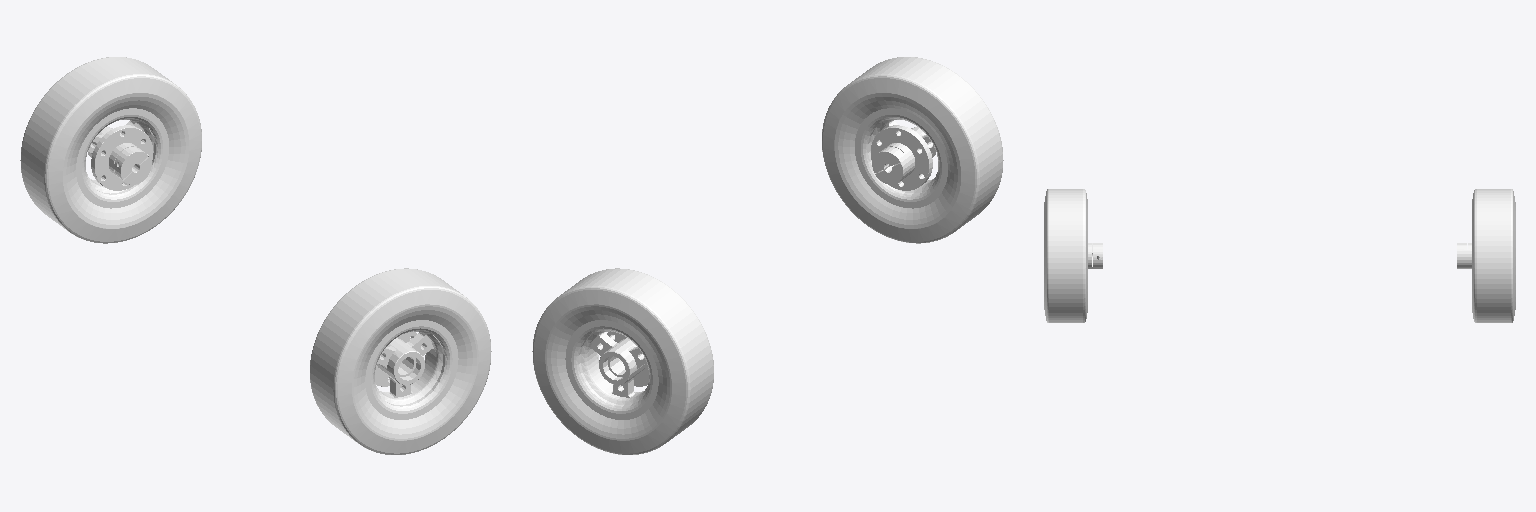
URDF robot description (senior_4wd_dl_robot):
<?xml version="1.0" encoding="utf-8"?>
<!-- This URDF was automatically created by SolidWorks to URDF Exporter! Originally created by [author] ([email redacted]) 
     Commit Version: 1.6.0-4-g7f85cfe  Build Version: 1.6.7995.38578
     For more information, please see http://wiki.ros.org/sw_urdf_exporter -->
<robot
  name="senior_4wd_dl_robot">
  <link
    name="base_link">
    <inertial>
      <origin
        xyz="0.0039692875836891 -0.0169684540029386 0.042340176559083"
        rpy="0 0 0" />
      <mass
        value="3.61810836580839" />
      <inertia
        ixx="0.0123396483090898"
        ixy="-3.75420365719103E-05"
        ixz="1.71277627741974E-06"
        iyy="0.019138606943035"
        iyz="-4.72702121116256E-07"
        izz="0.0300647615679597" />
    </inertial>
    <visual>
      <origin
        xyz="0 0 0"
        rpy="0 0 0" />
      <geometry>
        <mesh
          filename="package://wheeltec_robot_urdf/meshes/senior_4wd_dl_robot_meshes/base_link.STL" />
      </geometry>
      <material
        name="">
        <color
          rgba="0.741176470588235 0.901960784313726 0.956862745098039 1" />
      </material>
    </visual>
    <collision>
      <origin
        xyz="0 0 0"
        rpy="0 0 0" />
      <geometry>
        <mesh
          filename="package://wheeltec_robot_urdf/meshes/senior_4wd_dl_robot_meshes/base_link.STL" />
      </geometry>
    </collision>
  </link>
  <link
    name="lf_wheel_link">
    <inertial>
      <origin
        xyz="2.75911313407651E-07 -3.91891407047762E-07 1.95859976084845E-07"
        rpy="0 0 0" />
      <mass
        value="0.700030715838823" />
      <inertia
        ixx="0.00126075310735644"
        ixy="4.1842907931992E-08"
        ixz="1.75903085626805E-08"
        iyy="0.00230176504241376"
        iyz="3.53598250582258E-08"
        izz="0.001260767507515" />
    </inertial>
    <visual>
      <origin
        xyz="0 0 0"
        rpy="0 0 0" />
      <geometry>
        <mesh
          filename="package://wheeltec_robot_urdf/meshes/senior_4wd_dl_robot_meshes/lf_wheel_link.STL" />
      </geometry>
      <material
        name="">
        <color
          rgba="1 1 1 1" />
      </material>
    </visual>
    <collision>
      <origin
        xyz="0 0 0"
        rpy="0 0 0" />
      <geometry>
        <mesh
          filename="package://wheeltec_robot_urdf/meshes/senior_4wd_dl_robot_meshes/lf_wheel_link.STL" />
      </geometry>
    </collision>
  </link>
  <joint
    name="lf_wheel_joint"
    type="continuous">
    <origin
      xyz="0.213999160724458 0.242590433959339 0.016470999999997"
      rpy="0 0 0" />
    <parent
      link="base_link" />
    <child
      link="lf_wheel_link" />
    <axis
      xyz="0 -0.999999999999996 0" />
  </joint>
  <link
    name="lb_wheel_link">
    <inertial>
      <origin
        xyz="2.75911313435406E-07 -3.91891407020006E-07 1.95859976070967E-07"
        rpy="0 0 0" />
      <mass
        value="0.700030715838822" />
      <inertia
        ixx="0.00126075310735644"
        ixy="4.18429079320475E-08"
        ixz="1.75903085626591E-08"
        iyy="0.00230176504241376"
        iyz="3.53598250582156E-08"
        izz="0.001260767507515" />
    </inertial>
    <visual>
      <origin
        xyz="0 0 0"
        rpy="0 0 0" />
      <geometry>
        <mesh
          filename="package://wheeltec_robot_urdf/meshes/senior_4wd_dl_robot_meshes/lb_wheel_link.STL" />
      </geometry>
      <material
        name="">
        <color
          rgba="1 1 1 1" />
      </material>
    </visual>
    <collision>
      <origin
        xyz="0 0 0"
        rpy="0 0 0" />
      <geometry>
        <mesh
          filename="package://wheeltec_robot_urdf/meshes/senior_4wd_dl_robot_meshes/lb_wheel_link.STL" />
      </geometry>
    </collision>
  </link>
  <joint
    name="lb_wheel_joint"
    type="continuous">
    <origin
      xyz="-0.214000839275542 0.24259043395934 0.016470999999997"
      rpy="0 0 0" />
    <parent
      link="base_link" />
    <child
      link="lb_wheel_link" />
    <axis
      xyz="0 -0.999999999999996 0" />
  </joint>
  <link
    name="rb_wheel_link">
    <inertial>
      <origin
        xyz="-2.76184052544481E-07 3.91972408864127E-07 1.95859973087242E-07"
        rpy="0 0 0" />
      <mass
        value="0.700030715838823" />
      <inertia
        ixx="0.00126075310735685"
        ixy="4.18480167241891E-08"
        ixz="-1.75903087363996E-08"
        iyy="0.00230176504241335"
        iyz="-3.53598249717642E-08"
        izz="0.001260767507515" />
    </inertial>
    <visual>
      <origin
        xyz="0 0 0"
        rpy="0 0 0" />
      <geometry>
        <mesh
          filename="package://wheeltec_robot_urdf/meshes/senior_4wd_dl_robot_meshes/rb_wheel_link.STL" />
      </geometry>
      <material
        name="">
        <color
          rgba="1 1 1 1" />
      </material>
    </visual>
    <collision>
      <origin
        xyz="0 0 0"
        rpy="0 0 0" />
      <geometry>
        <mesh
          filename="package://wheeltec_robot_urdf/meshes/senior_4wd_dl_robot_meshes/rb_wheel_link.STL" />
      </geometry>
    </collision>
  </link>
  <joint
    name="rb_wheel_joint"
    type="continuous">
    <origin
      xyz="-0.214012839275544 -0.23856356604066 0.016470999999997"
      rpy="0 0 0" />
    <parent
      link="base_link" />
    <child
      link="rb_wheel_link" />
    <axis
      xyz="0 0.999999999999996 0" />
  </joint>
  <link
    name="rf_wheel_link">
    <inertial>
      <origin
        xyz="-2.76184052461215E-07 3.91972408919639E-07 1.9585997310112E-07"
        rpy="0 0 0" />
      <mass
        value="0.700030715838823" />
      <inertia
        ixx="0.00126075310735685"
        ixy="4.18480167242432E-08"
        ixz="-1.75903087364055E-08"
        iyy="0.00230176504241335"
        iyz="-3.5359824971763E-08"
        izz="0.001260767507515" />
    </inertial>
    <visual>
      <origin
        xyz="0 0 0"
        rpy="0 0 0" />
      <geometry>
        <mesh
          filename="package://wheeltec_robot_urdf/meshes/senior_4wd_dl_robot_meshes/rf_wheel_link.STL" />
      </geometry>
      <material
        name="">
        <color
          rgba="1 1 1 1" />
      </material>
    </visual>
    <collision>
      <origin
        xyz="0 0 0"
        rpy="0 0 0" />
      <geometry>
        <mesh
          filename="package://wheeltec_robot_urdf/meshes/senior_4wd_dl_robot_meshes/rf_wheel_link.STL" />
      </geometry>
    </collision>
  </link>
  <joint
    name="rf_wheel_joint"
    type="continuous">
    <origin
      xyz="0.213987160724456 -0.238563566040661 0.016470999999997"
      rpy="0 0 0" />
    <parent
      link="base_link" />
    <child
      link="rf_wheel_link" />
    <axis
      xyz="0 0.999999999999996 0" />
  </joint>
  <link
    name="camera_link">
    <inertial>
      <origin
        xyz="3.44868297197376E-07 -3.53598340584031E-07 1.07617269679006E-07"
        rpy="0 0 0" />
      <mass
        value="0.0559842512667172" />
      <inertia
        ixx="0.000130810959355656"
        ixy="1.20255121404777E-07"
        ixz="1.62335437373898E-06"
        iyy="1.91148635028013E-05"
        iyz="-2.80016695785784E-08"
        izz="0.000131387469540189" />
    </inertial>
    <visual>
      <origin
        xyz="0 0 0"
        rpy="0 0 0" />
      <geometry>
        <mesh
          filename="package://wheeltec_robot_urdf/meshes/senior_4wd_dl_robot_meshes/camera_link.STL" />
      </geometry>
      <material
        name="">
        <color
          rgba="1 1 1 1" />
      </material>
    </visual>
    <collision>
      <origin
        xyz="0 0 0"
        rpy="0 0 0" />
      <geometry>
        <mesh
          filename="package://wheeltec_robot_urdf/meshes/senior_4wd_dl_robot_meshes/camera_link.STL" />
      </geometry>
    </collision>
  </link>
  <joint
    name="camera_joint"
    type="fixed">
    <origin
      xyz="0.231597160724457 0.00224143395933855 0.128203999999997"
      rpy="0 0 0" />
    <parent
      link="base_link" />
    <child
      link="camera_link" />
    <axis
      xyz="0 0 0" />
  </joint>
  <link
    name="laser_link">
    <inertial>
      <origin
        xyz="0.00196458631092417 -3.57895369235698E-06 -0.000201831632183791"
        rpy="0 0 0" />
      <mass
        value="0.0477519163700356" />
      <inertia
        ixx="3.38461999734689E-05"
        ixy="-2.19897049050811E-09"
        ixz="1.07118468692931E-06"
        iyy="3.9415041585171E-05"
        iyz="6.83978477324344E-10"
        izz="5.60787042097609E-05" />
    </inertial>
    <visual>
      <origin
        xyz="0 0 0"
        rpy="0 0 0" />
      <geometry>
        <mesh
          filename="package://wheeltec_robot_urdf/meshes/senior_4wd_dl_robot_meshes/laser.STL" />
      </geometry>
      <material
        name="">
        <color
          rgba="0.376470588235294 0.376470588235294 0.376470588235294 1" />
      </material>
    </visual>
    <collision>
      <origin
        xyz="0 0 0"
        rpy="0 0 0" />
      <geometry>
        <mesh
          filename="package://wheeltec_robot_urdf/meshes/senior_4wd_dl_robot_meshes/laser.STL" />
      </geometry>
    </collision>
  </link>
  <joint
    name="laser_joint"
    type="fixed">
    <origin
      xyz="0.156992810769455 0.00201378391434084 0.146524183741428"
      rpy="0 0 3.14159265358979" />
    <parent
      link="base_link" />
    <child
      link="laser_link" />
    <axis
      xyz="0 0 0" />
  </joint>
  <link
    name="controller_link">
    <inertial>
      <origin
        xyz="-0.049710340079087 0.0175133935293354 0.00856001460559375"
        rpy="0 0 0" />
      <mass
        value="0.00107921953110443" />
      <inertia
        ixx="1.16330109775188E-08"
        ixy="-3.94092668869415E-09"
        ixz="3.69212784612903E-10"
        iyy="2.26830020206353E-07"
        iyz="5.23015130069675E-10"
        izz="2.2565704246194E-07" />
    </inertial>
    <visual>
      <origin
        xyz="0 0 0"
        rpy="0 0 0" />
      <geometry>
        <mesh
          filename="package://wheeltec_robot_urdf/meshes/senior_4wd_dl_robot_meshes/controller_link.STL" />
      </geometry>
      <material
        name="">
        <color
          rgba="0.741176470588235 0.901960784313726 0.956862745098039 1" />
      </material>
    </visual>
    <collision>
      <origin
        xyz="0 0 0"
        rpy="0 0 0" />
      <geometry>
        <mesh
          filename="package://wheeltec_robot_urdf/meshes/senior_4wd_dl_robot_meshes/controller_link.STL" />
      </geometry>
    </collision>
  </link>
  <joint
    name="controller_joint"
    type="fixed">
    <origin
      xyz="0.101379911991689 0.0620176418028498 0.00150000000000076"
      rpy="0 0 0" />
    <parent
      link="base_link" />
    <child
      link="controller_link" />
    <axis
      xyz="0 0 0" />
  </joint>
</robot>

--- Render facts (derived) ---
The picture shows the robot from 3 angles, left to right: view 1: azimuth 30°, elevation 25°; view 2: azimuth 150°, elevation 25°; view 3: azimuth 270°, elevation 25°; orthographic projection.
Model senior_4wd_dl_robot with 8 links and 7 joints (4 continuous, 3 fixed), rooted at base_link, posed every joint at zero.
Links seen in each view (by area): view 1: rb_wheel_link, lb_wheel_link; view 2: lb_wheel_link, rb_wheel_link; view 3: rb_wheel_link, lb_wheel_link.
Boxes of the visible links, <box> form: rb_wheel_link: <box>310,268,491,454</box>; lb_wheel_link: <box>20,57,201,243</box>; lb_wheel_link: <box>532,268,713,454</box>; rb_wheel_link: <box>822,57,1003,243</box>; rb_wheel_link: <box>1044,189,1102,322</box>; lb_wheel_link: <box>1457,189,1515,322</box>.
Size in the robot's own frame: 0.152 by 0.5323 by 0.152 metres.
2 mesh visuals loaded from 8 distinct referenced files (2 binary STL); not drawn: 6 (reference not matched to a file when rendering).